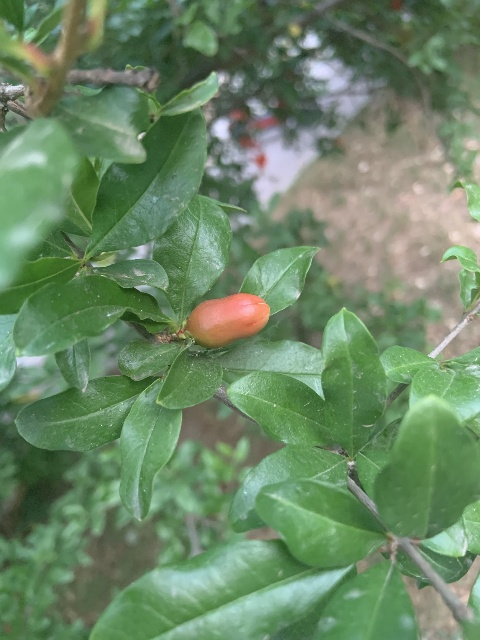bud: (186, 293, 270, 349)
